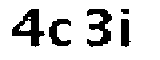3: (80, 4, 114, 50)
4: (10, 6, 48, 53)
c: (47, 16, 77, 50)
i: (115, 3, 138, 51)
